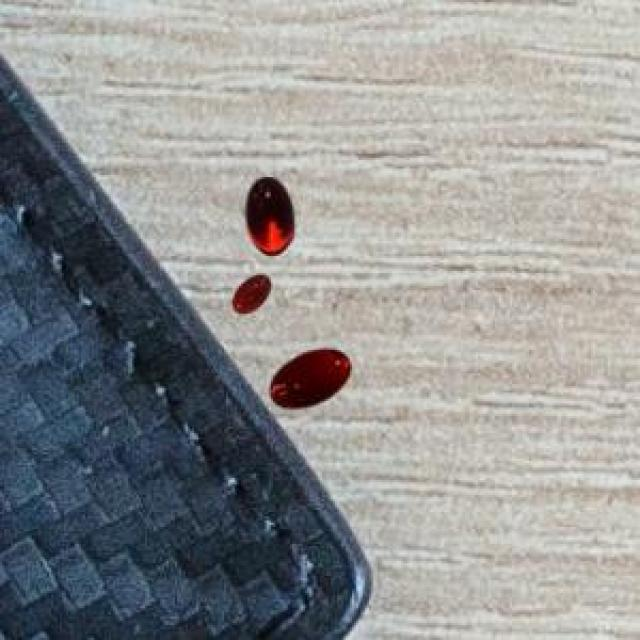Medicol: (262, 339, 356, 433), (237, 166, 310, 261), (226, 269, 278, 321)
